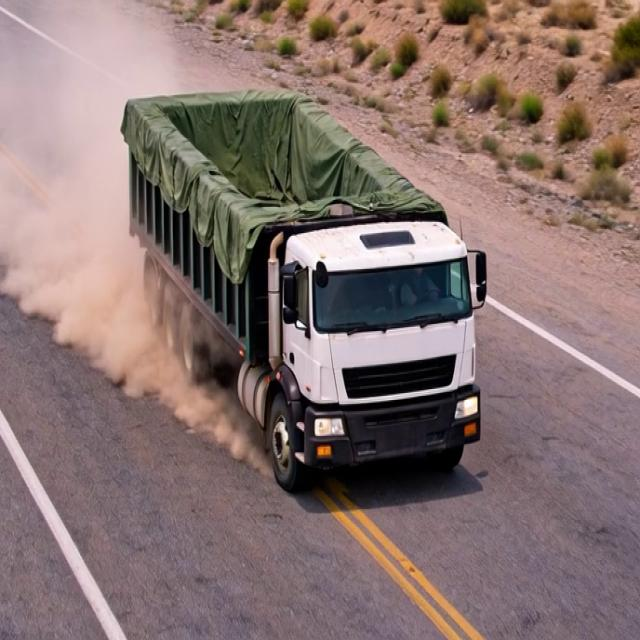trailer: (120, 88, 463, 230)
truck: (111, 55, 497, 472)
